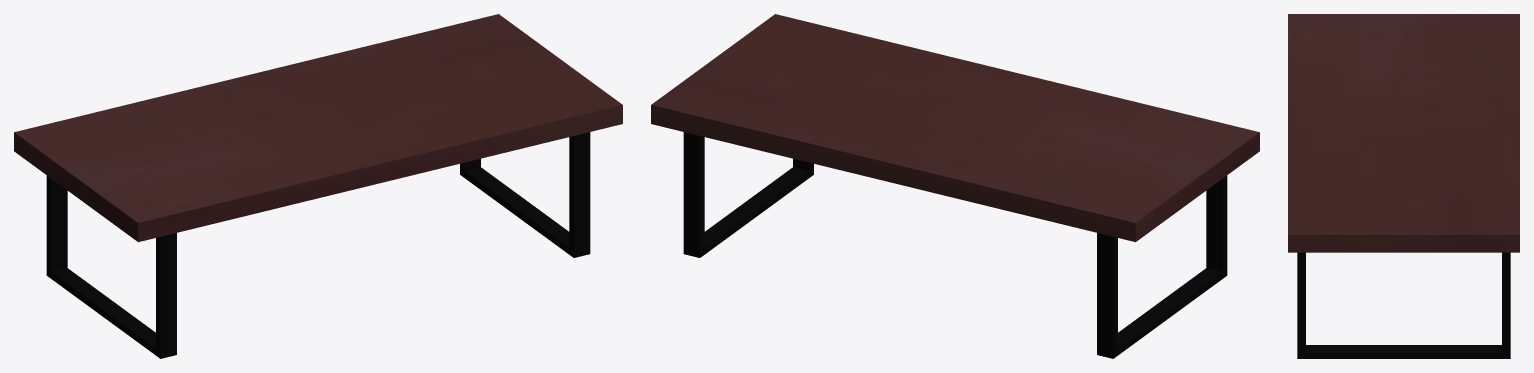
File: ShortTable.fbx
3 views of the same model, side by side, from view 1: azimuth 30°, elevation 25°; view 2: azimuth 150°, elevation 25°; view 3: azimuth 270°, elevation 25° (orthographic). The views are drawn at different scales.
Parts seen in each view (by area): view 1: Top, Legs; view 2: Top, Legs; view 3: Top, Legs.
Boxes of the visible parts, <box> form: Top: <box>14,14,622,242</box>; Legs: <box>46,132,590,358</box>; Top: <box>651,14,1259,242</box>; Legs: <box>683,132,1227,358</box>; Top: <box>1288,14,1519,252</box>; Legs: <box>1297,252,1510,358</box>.
Size of the model in its own units: 418 by 120 by 185.
